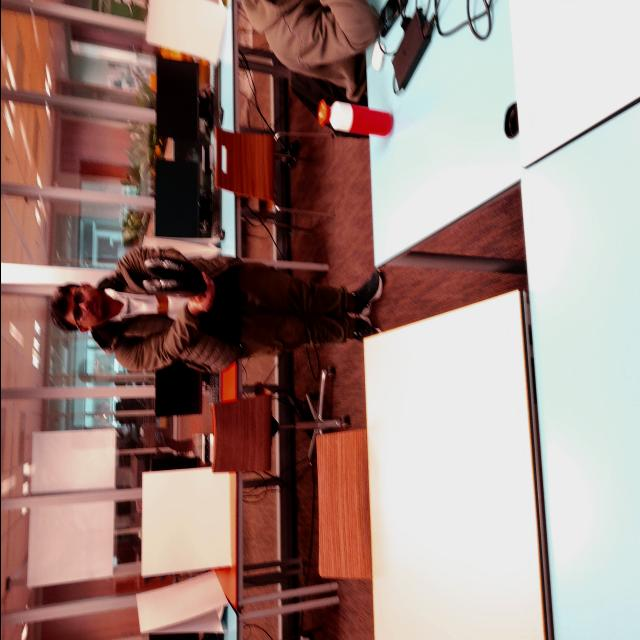paddle: (140, 256, 206, 298)
